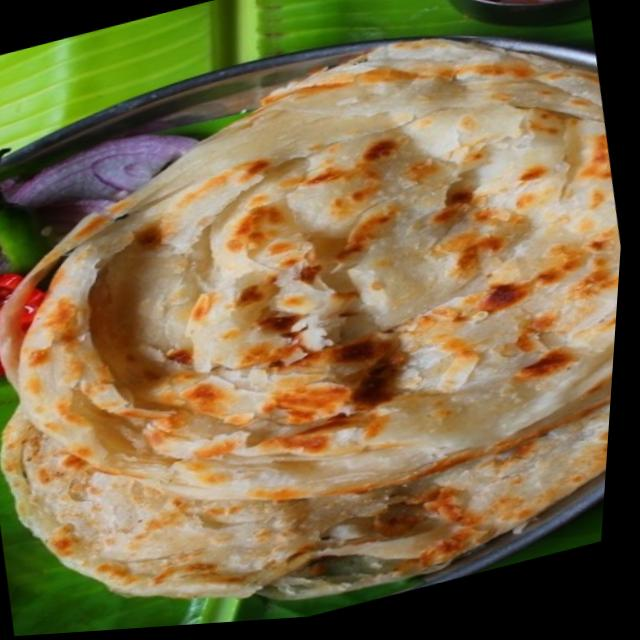PAROTTA: (0, 36, 619, 602)
